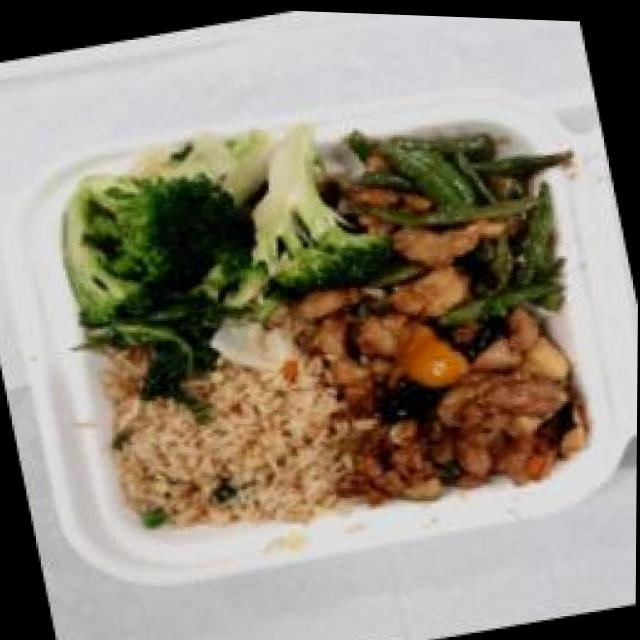Fried Rice: (100, 333, 366, 554)
Kung Pao Chicken: (310, 289, 611, 531)
String Bean Chicken Breast: (331, 98, 587, 355)
Super Greens: (38, 101, 364, 401)
